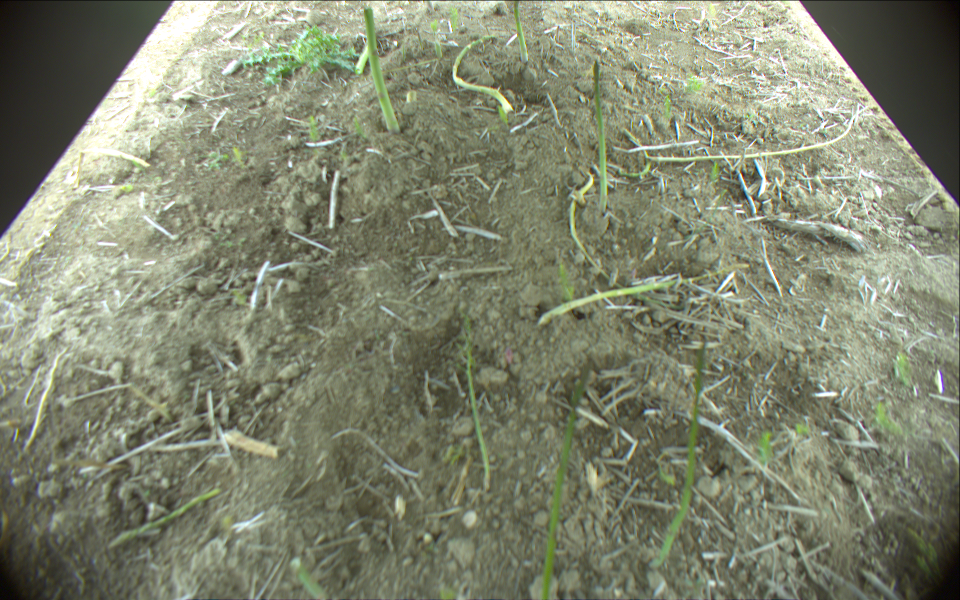aspa: (646, 342, 708, 568), (538, 262, 749, 325), (537, 359, 592, 600), (649, 103, 856, 163), (568, 172, 655, 300), (107, 489, 220, 548), (452, 35, 514, 114), (364, 6, 401, 132), (463, 318, 489, 489), (591, 60, 609, 214), (616, 129, 651, 176), (79, 149, 150, 169), (513, 1, 530, 63), (354, 40, 371, 75), (434, 42, 442, 58)
